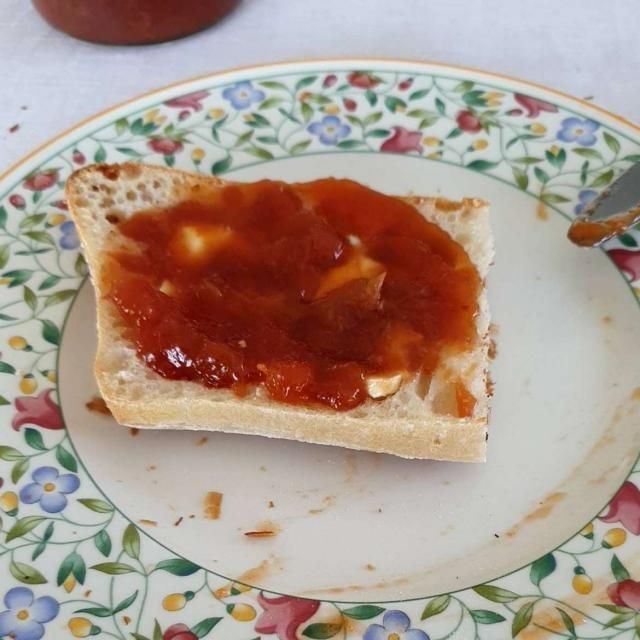bread: (94, 180, 484, 450)
jam: (119, 178, 455, 398)
